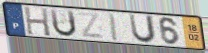6: (158, 16, 181, 46)
H: (23, 5, 52, 38)
I: (107, 12, 120, 43)
U: (128, 13, 158, 45), (49, 8, 79, 39)
Z: (76, 11, 106, 40)
